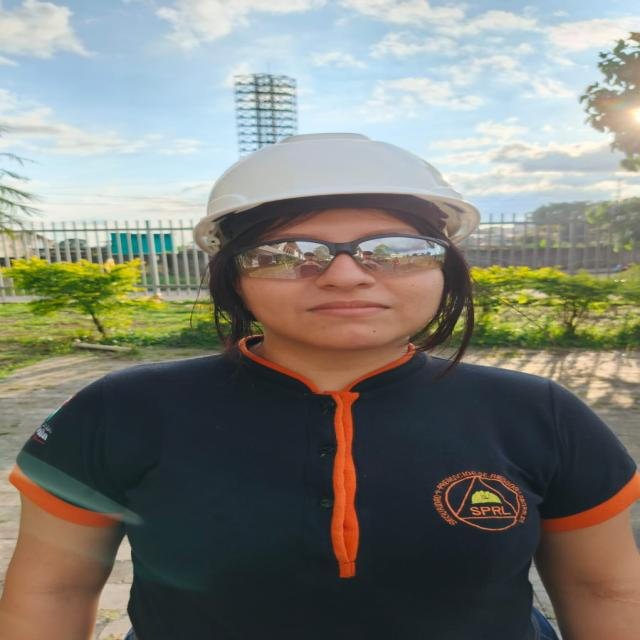helmet: (194, 133, 480, 251)
protective_glasses: (236, 235, 453, 280)
